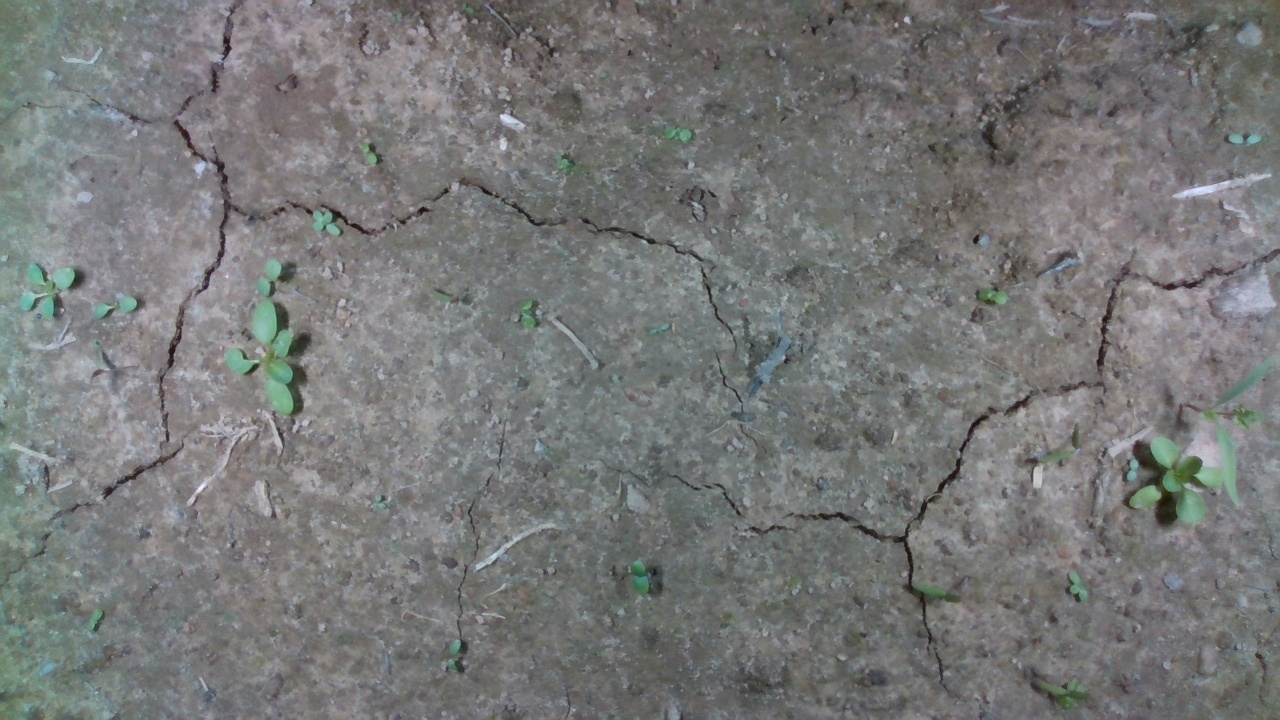weed: (92, 289, 153, 329), (309, 205, 344, 243), (624, 557, 655, 597), (979, 282, 1023, 308), (661, 118, 698, 148), (440, 635, 468, 673), (1062, 565, 1089, 600), (513, 294, 534, 335), (1224, 129, 1266, 148), (78, 607, 105, 636), (355, 138, 378, 167), (644, 318, 680, 336), (550, 151, 576, 174)
